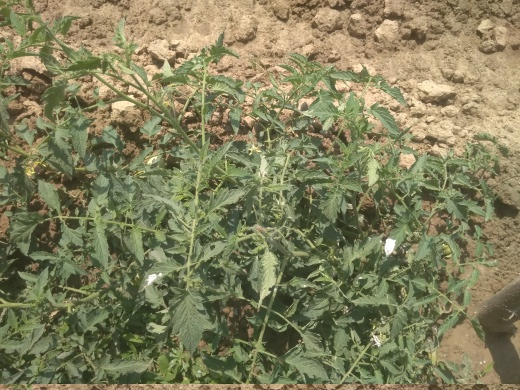tomato flower: (17, 160, 53, 191)
tomato plant: (1, 101, 439, 381)
